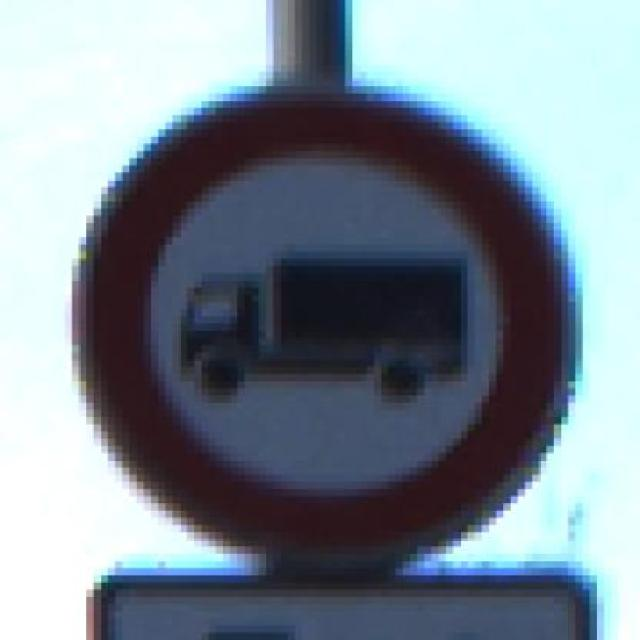Truck traffic is prohibited: (36, 72, 626, 570)
